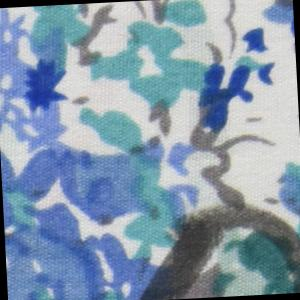Stain: (126, 191, 300, 300)
